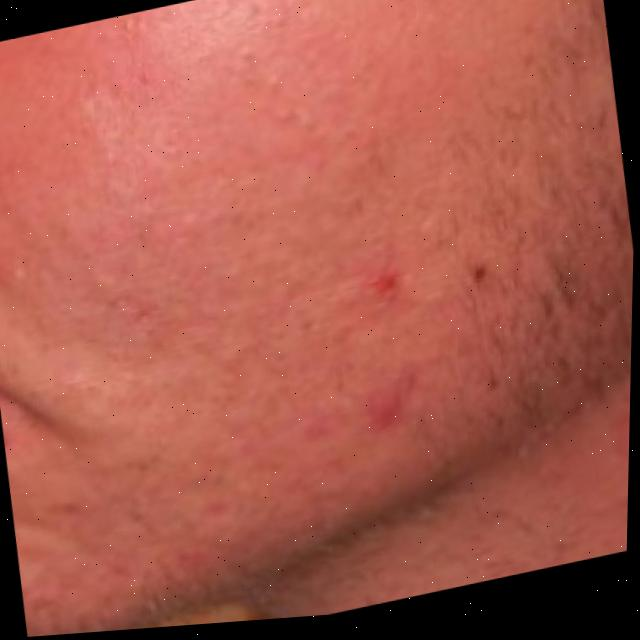Acne: (320, 233, 495, 434)
